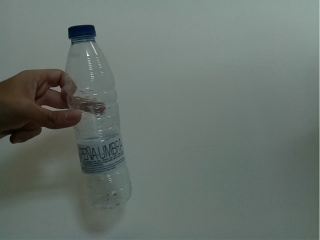botella plastico: (60, 23, 134, 211)
